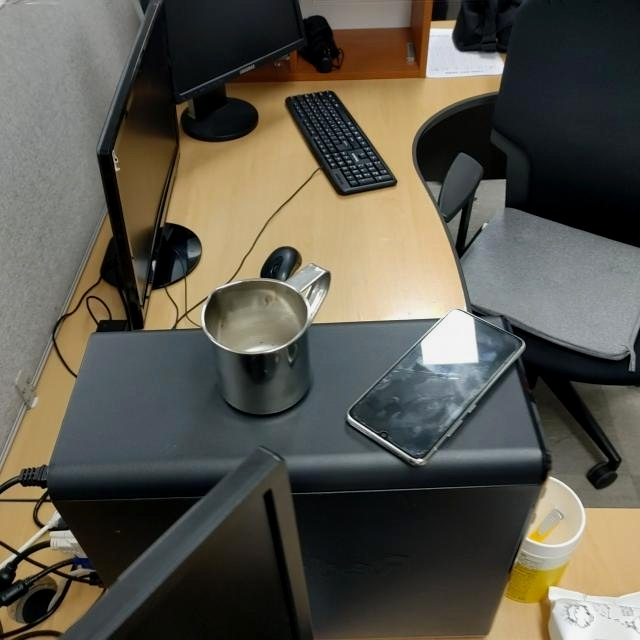cup: (201, 261, 333, 419)
phone: (346, 307, 528, 469)
